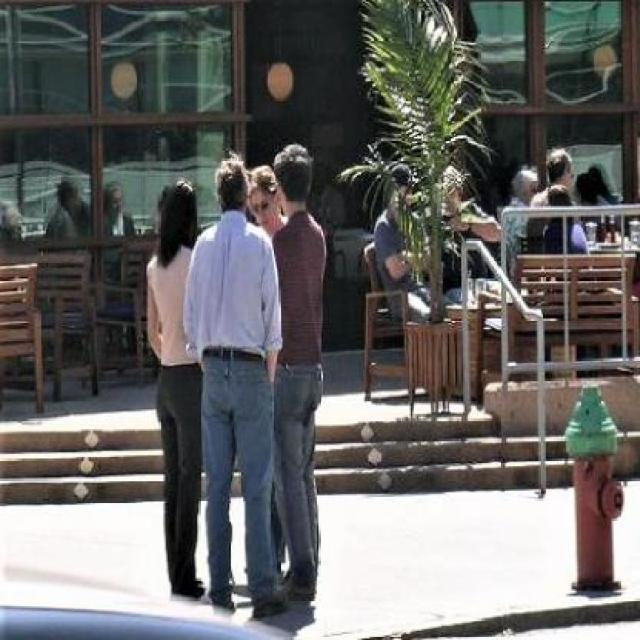obstacle: (182, 154, 288, 621), (268, 142, 332, 613), (137, 180, 203, 606)
